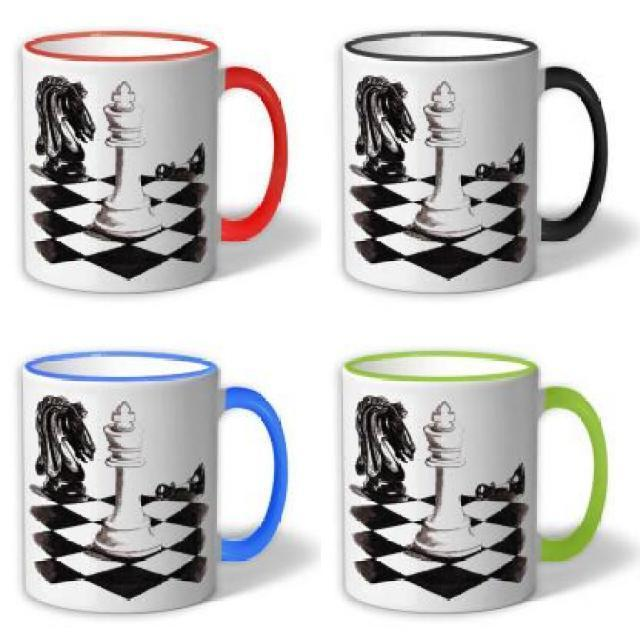taza: (336, 340, 610, 618), (20, 344, 290, 618), (339, 29, 611, 296), (21, 26, 289, 294)
